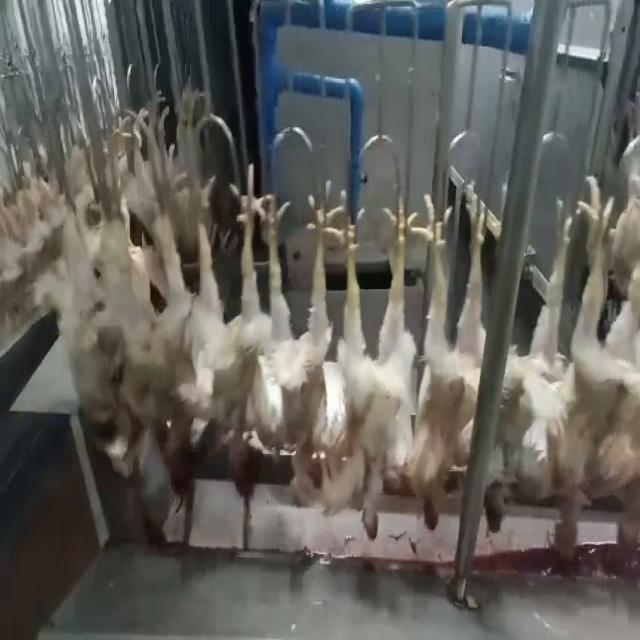chicken: (481, 150, 593, 570), (398, 179, 497, 534), (162, 160, 262, 482), (330, 177, 412, 545), (256, 178, 346, 509), (71, 178, 166, 480), (597, 148, 639, 570)
